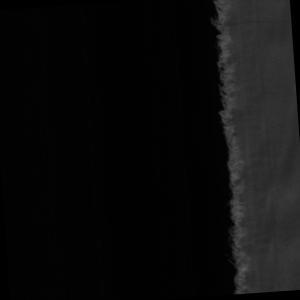Damage: (205, 1, 262, 296)
